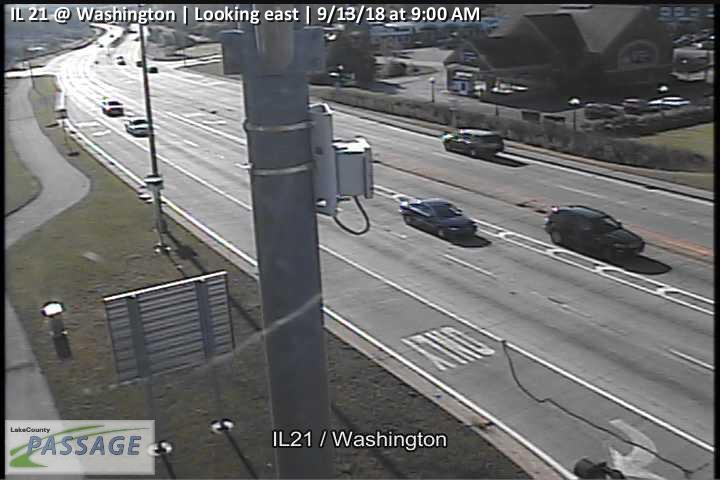SUV: (543, 203, 646, 261), (441, 128, 505, 157)
Sedan: (399, 198, 478, 239), (124, 117, 150, 135)
